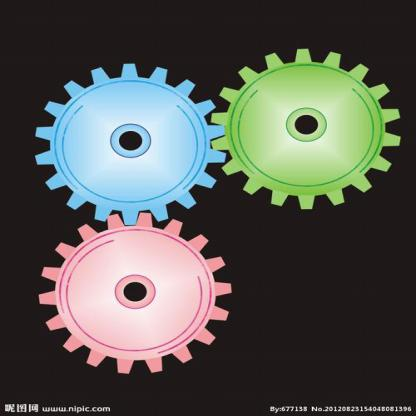FOD: (40, 214, 233, 376)
